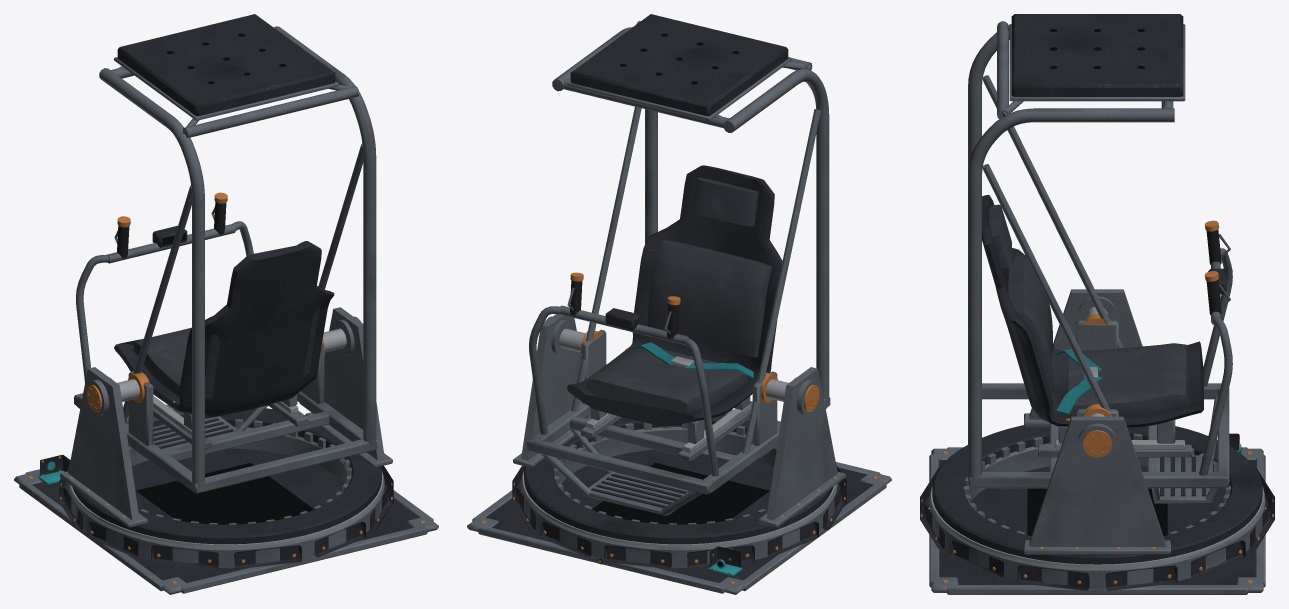
The model's file is turret_seat_1.glb.
3 renders of one model, left to right at view 1: azimuth 30°, elevation 25°; view 2: azimuth 150°, elevation 25°; view 3: azimuth 270°, elevation 25°, orthographic. The views are drawn at different scales.
Visible parts, largest first — view 1: Cradle, Base, YawStage, ShellFrame, Cushion, Backrest; view 2: Cradle, Base, YawStage, ShellFrame, Backrest, Cushion; view 3: Cradle, YawStage, Base, Cushion, ShellFrame, Backrest.
Part boxes in pixels (left/top/right/bottom): Cradle: left=74, top=14, right=377, bottom=493; Base: left=14, top=426, right=438, bottom=594; YawStage: left=60, top=307, right=392, bottom=547; ShellFrame: left=114, top=241, right=334, bottom=430; Cushion: left=133, top=327, right=191, bottom=397; Backrest: left=205, top=308, right=319, bottom=399; Cradle: left=527, top=14, right=830, bottom=515; Base: left=467, top=426, right=891, bottom=594; YawStage: left=513, top=314, right=845, bottom=547; ShellFrame: left=567, top=165, right=782, bottom=443; Backrest: left=647, top=177, right=772, bottom=357; Cushion: left=586, top=342, right=753, bottom=413; Cradle: left=968, top=14, right=1232, bottom=503; YawStage: left=931, top=289, right=1263, bottom=567; Base: left=920, top=433, right=1274, bottom=594; Cushion: left=1056, top=343, right=1190, bottom=416; ShellFrame: left=982, top=194, right=1203, bottom=443; Backrest: left=989, top=204, right=1052, bottom=400.
Size of the model in its own units: 1.01 by 1.5 by 1.01.
Materials: 10 (7 with a texture image).
